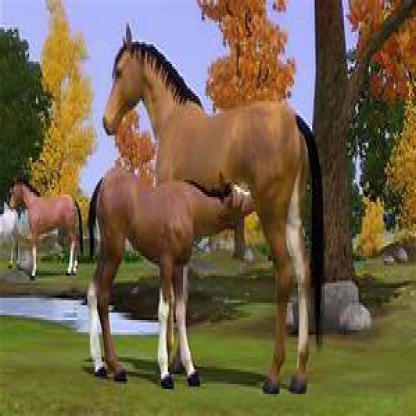horse: (92, 22, 320, 399), (91, 185, 252, 384), (14, 182, 83, 283)
